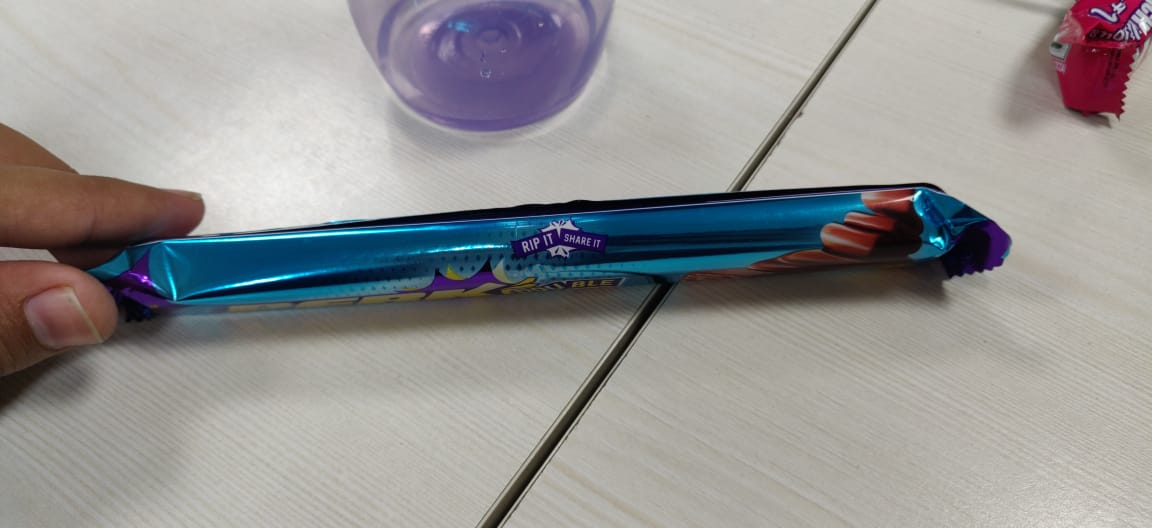perk: (73, 170, 1036, 339)
